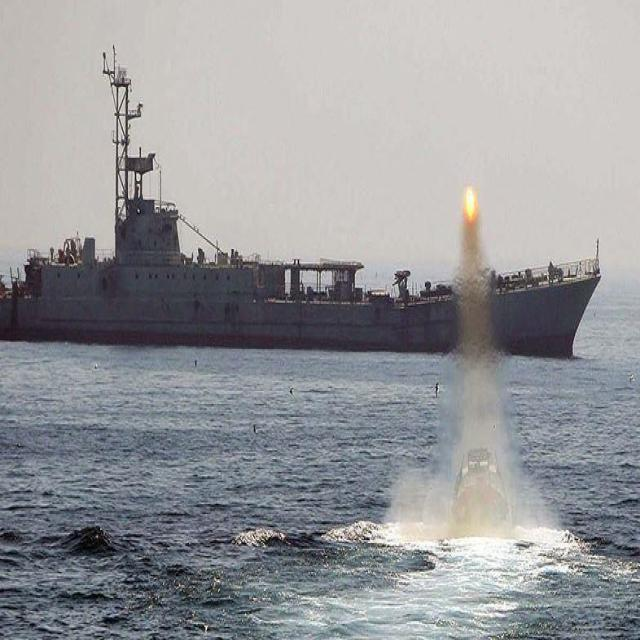navalvessels: (0, 71, 602, 378)
